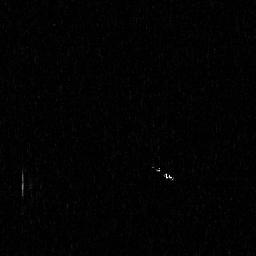ship: (149, 163, 174, 182)
